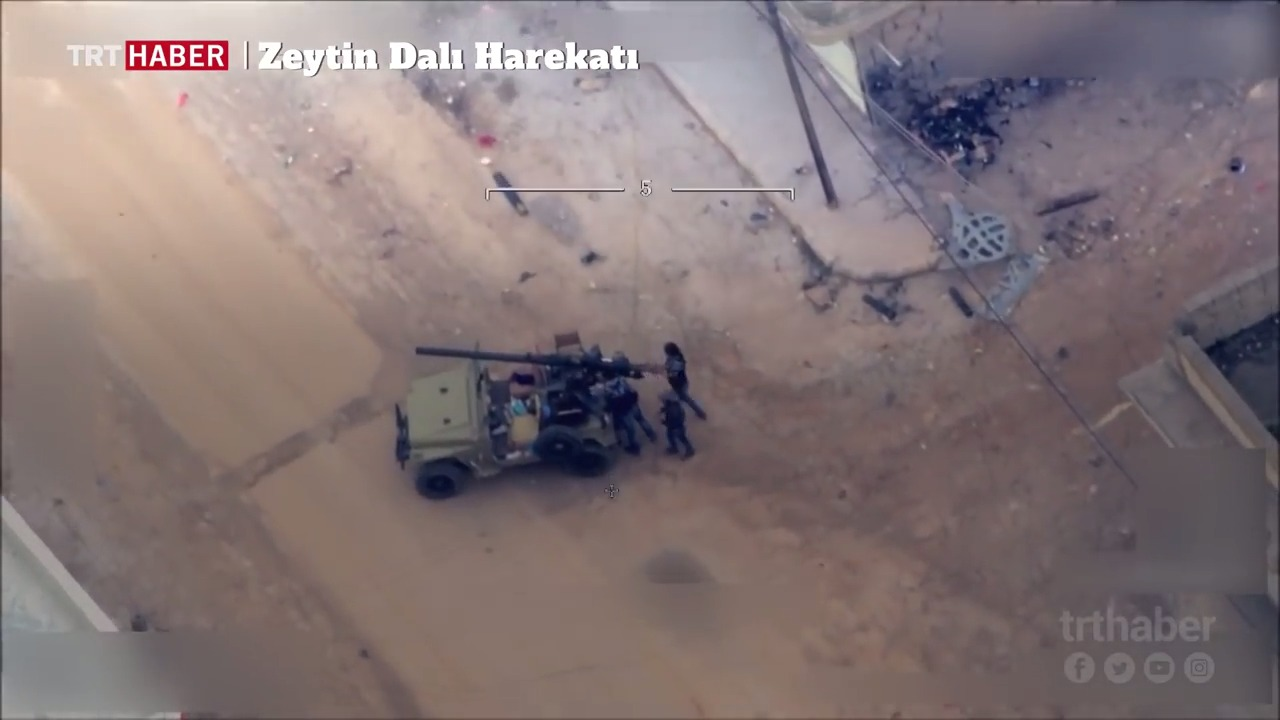arac: (391, 322, 622, 507)
insan: (655, 324, 707, 425), (647, 390, 706, 478), (596, 384, 655, 458)
